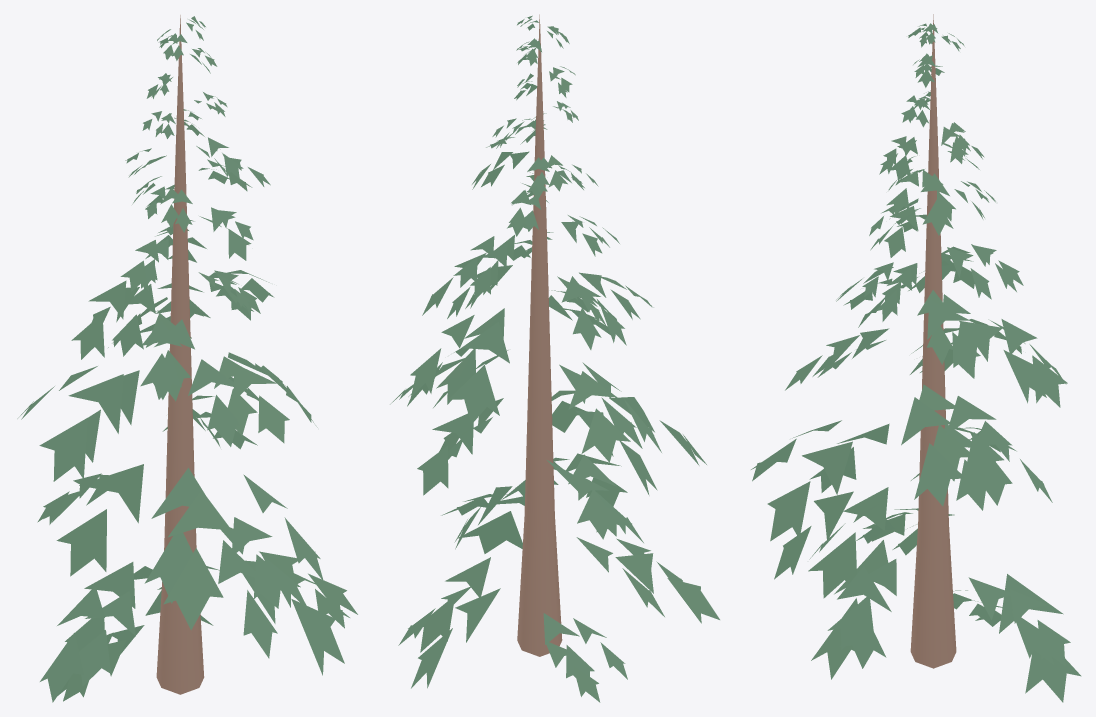
File: Blender_YoungRedwood_1_Far.glb
3 views of the same model, side by side, from view 1: azimuth 30°, elevation 25°; view 2: azimuth 150°, elevation 25°; view 3: azimuth 270°, elevation 25° (orthographic). The views are drawn at different scales.
Parts seen in each view (by area): view 1: Blender_YoungRedwood_1_Far; view 2: Blender_YoungRedwood_1_Far; view 3: Blender_YoungRedwood_1_Far.
Part boxes in pixels (<box>): Blender_YoungRedwood_1_Far: <box>17,15,357,702</box>; Blender_YoungRedwood_1_Far: <box>390,14,719,702</box>; Blender_YoungRedwood_1_Far: <box>751,14,1081,702</box>.
Size of the model in its own units: 12.78 by 28.18 by 12.93.
